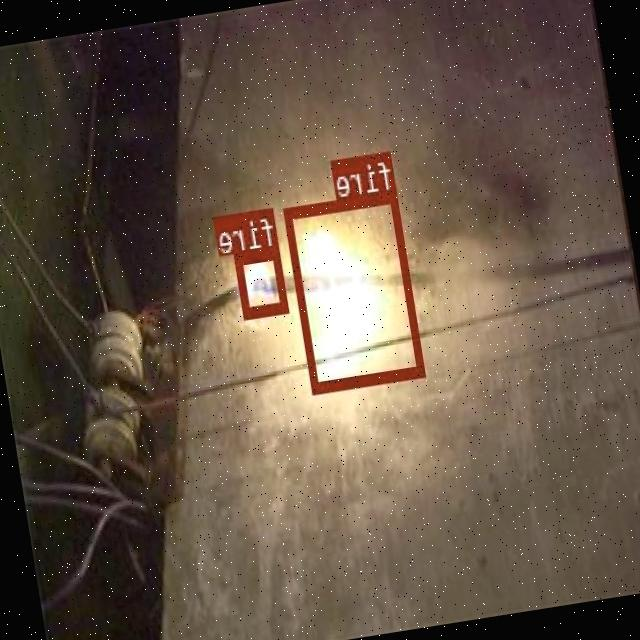fire: (286, 190, 426, 392), (236, 245, 290, 316)
